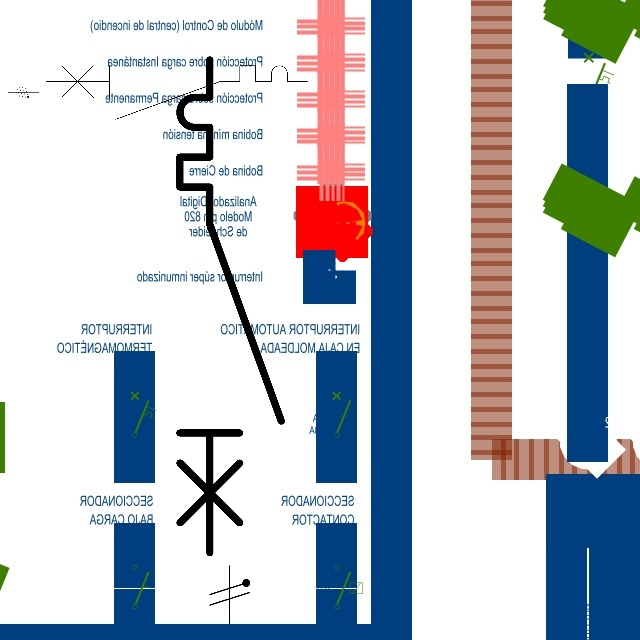interruptor_termomagnetico: (167, 47, 294, 565), (39, 59, 314, 126)
